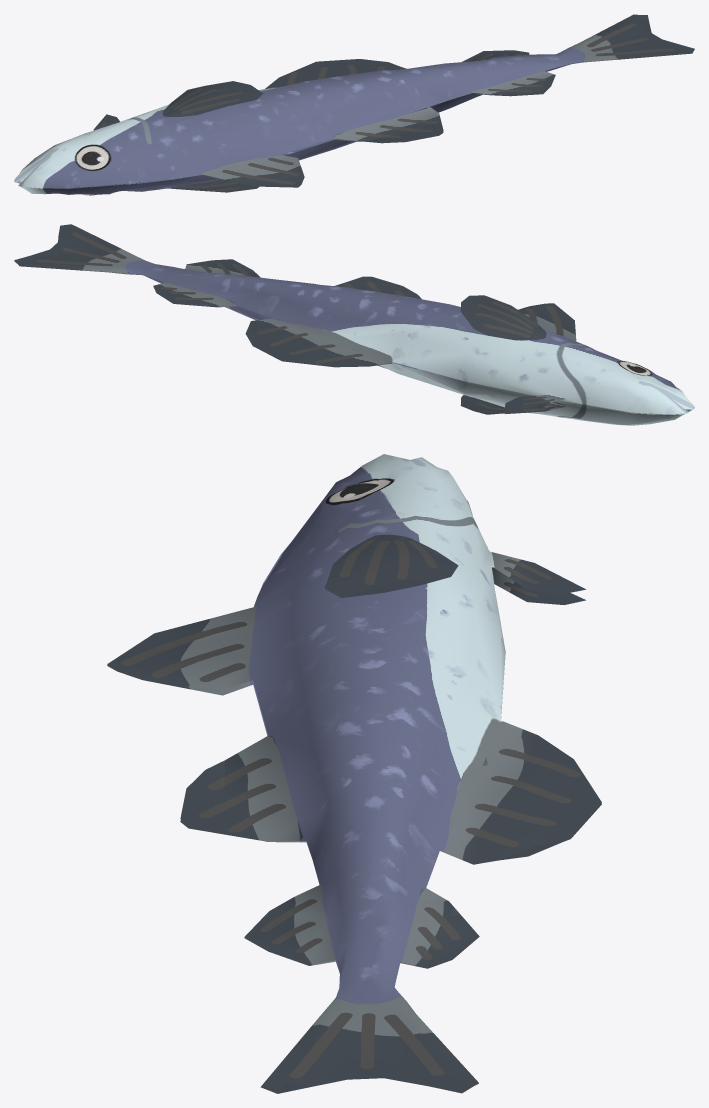
File: arcticCod00.fbx
3 renders of one model, top to bottom at view 1: azimuth 30°, elevation 25°; view 2: azimuth 150°, elevation 25°; view 3: azimuth 270°, elevation 25°, orthographic. The views are drawn at different scales.
Visible parts, largest first — view 1: arcticCod_final; view 2: arcticCod_final; view 3: arcticCod_final.
Part boxes in pixels (x1,y1,x2,y2): arcticCod_final: (14, 14, 694, 195); arcticCod_final: (14, 224, 694, 425); arcticCod_final: (107, 454, 601, 1093).
Size of the model in its own units: 1.11 by 0.1524 by 0.3675.
Materials: 1 (1 with a texture image).
